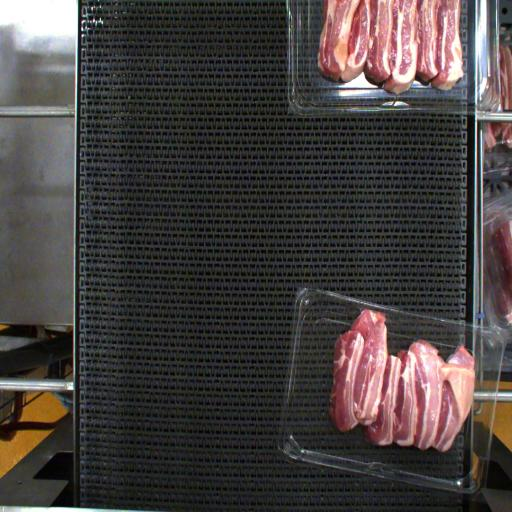packaging-error: (351, 294, 389, 322)
twisted-meat: (437, 344, 475, 452)
